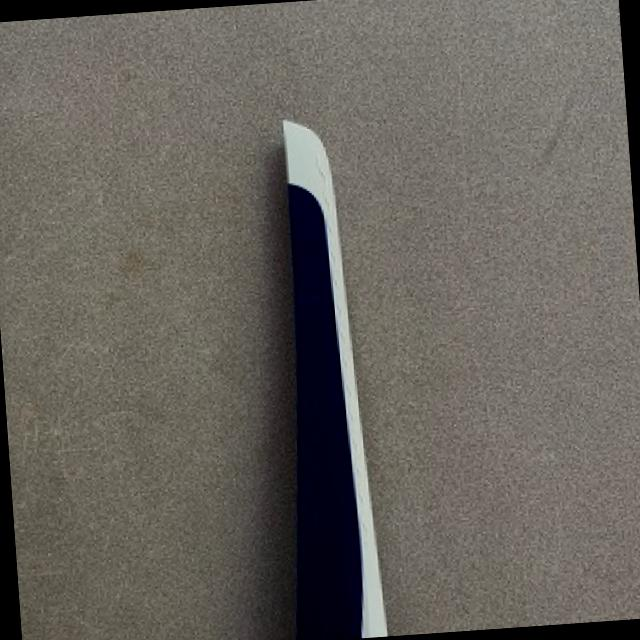healthy: (280, 117, 385, 640)
